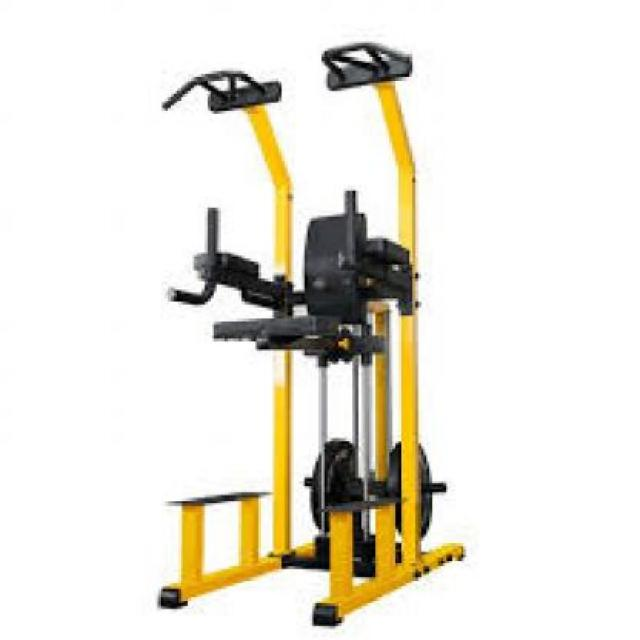chinning dipping: (159, 40, 466, 626)
